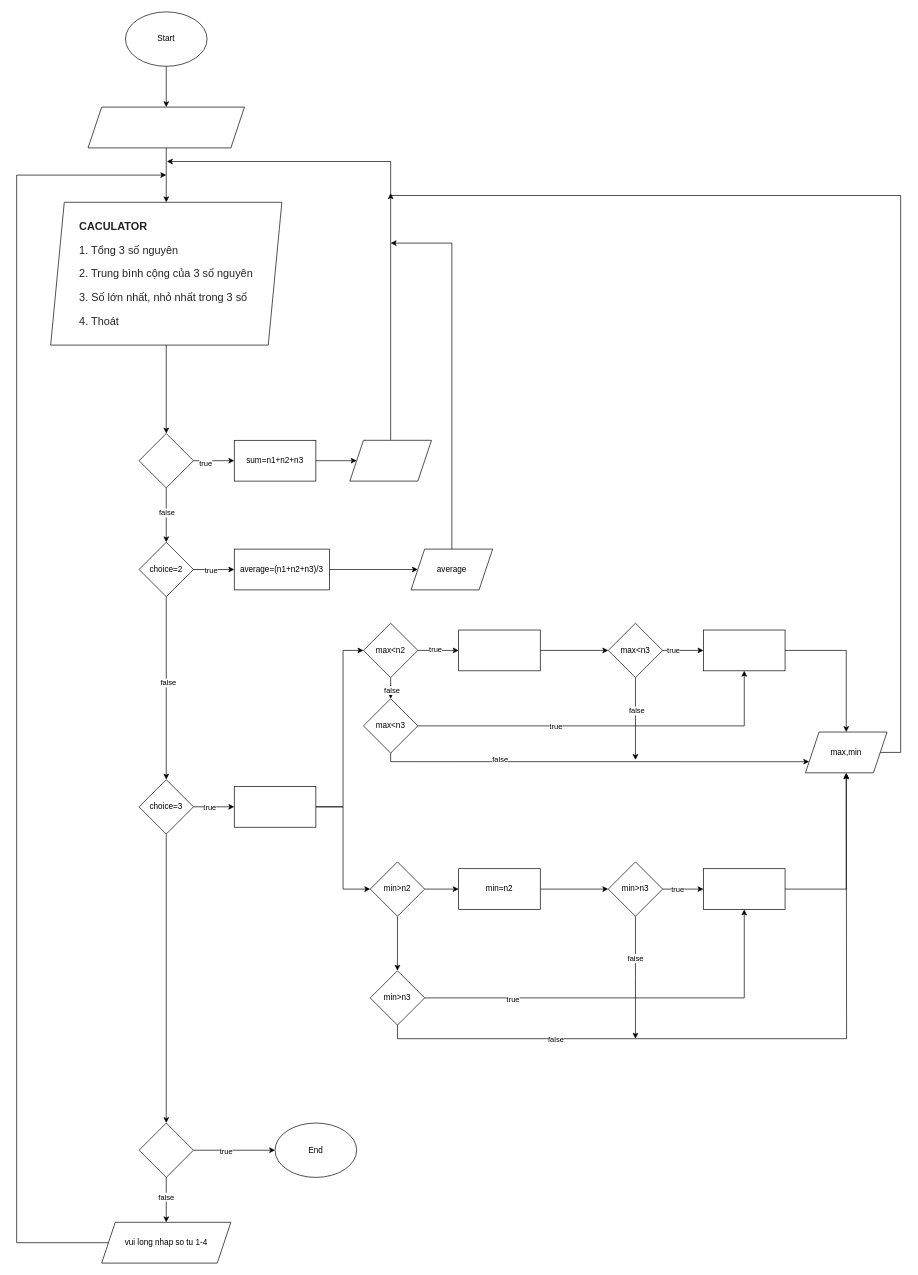
The diagram is 918 pixels wide and 1275 high, and some of its shapes have lost their labels. Here are the shapes that lost their labels. From the top down, the centre of each, then its label:
At pixel 165 127: "n1,n2,n3,sum,average,max,min,choice".
At pixel 165 460: "choice=1".
At pixel 390 460: "sum".
At pixel 499 650: "max=n2".
At pixel 744 650: "max=n3".
At pixel 275 806: "max=n1 min=n1".
At pixel 744 889: "min=n3".
At pixel 165 1149: "choice=4".
